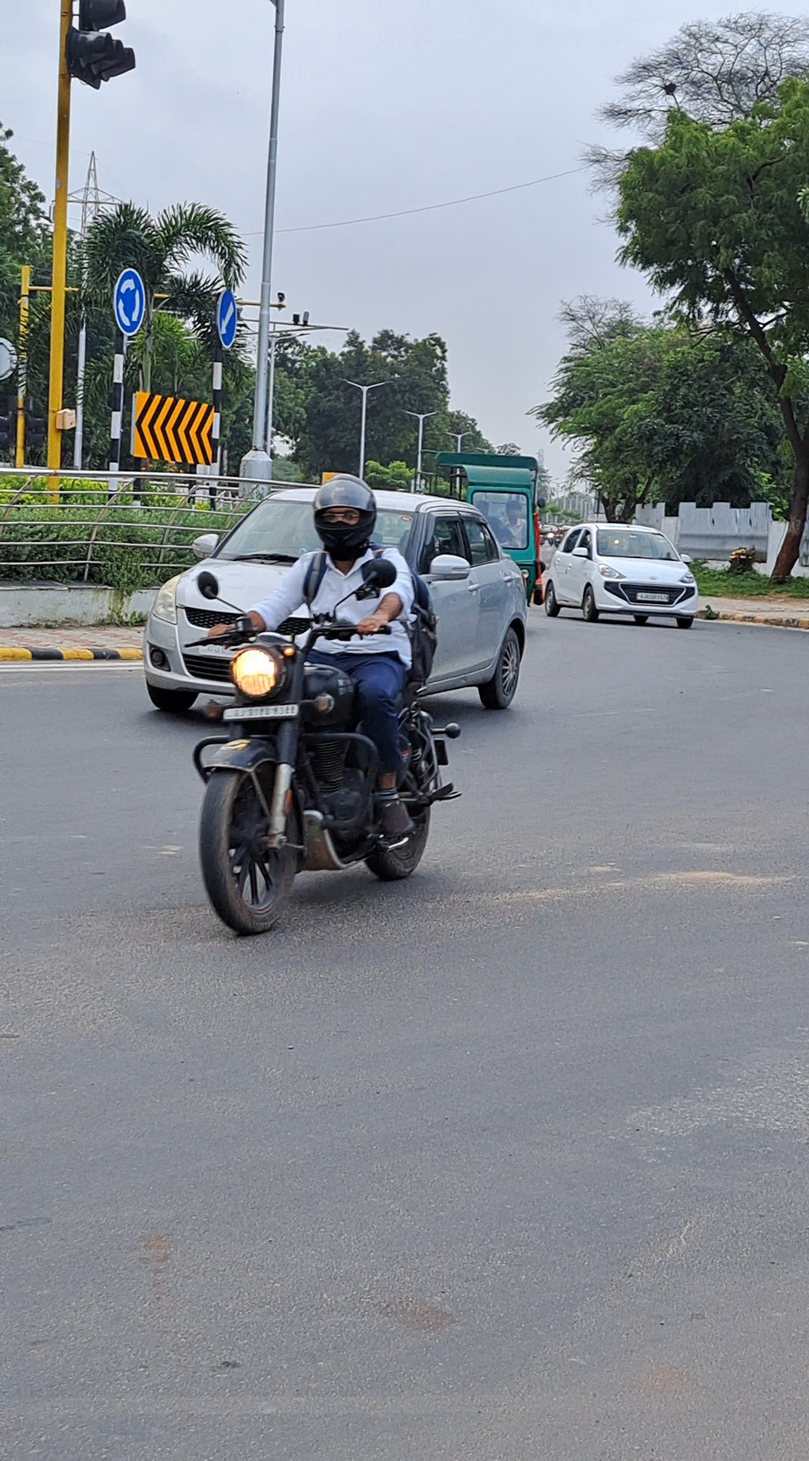BikeWithRider: (175, 468, 470, 946)
Helmet: (301, 467, 387, 563)
